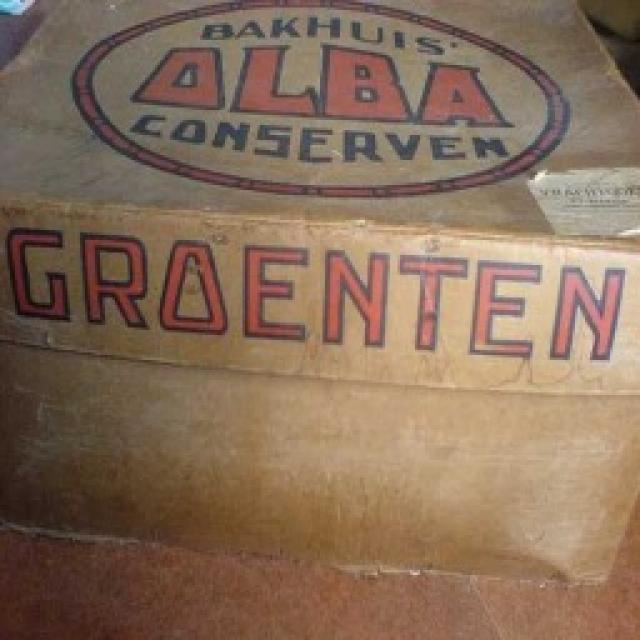box: (4, 8, 638, 590)
